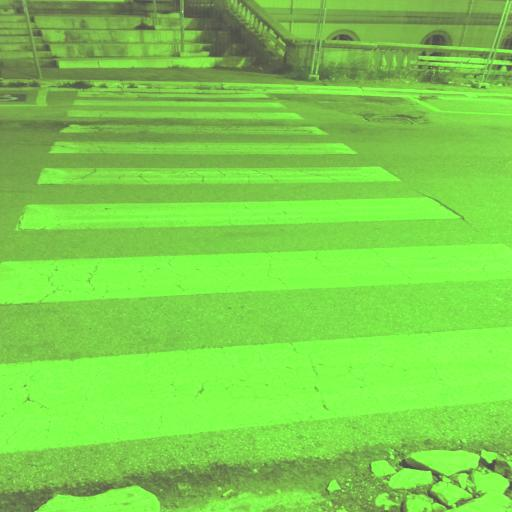crosswalk: (1, 242, 512, 454), (32, 138, 409, 188)
